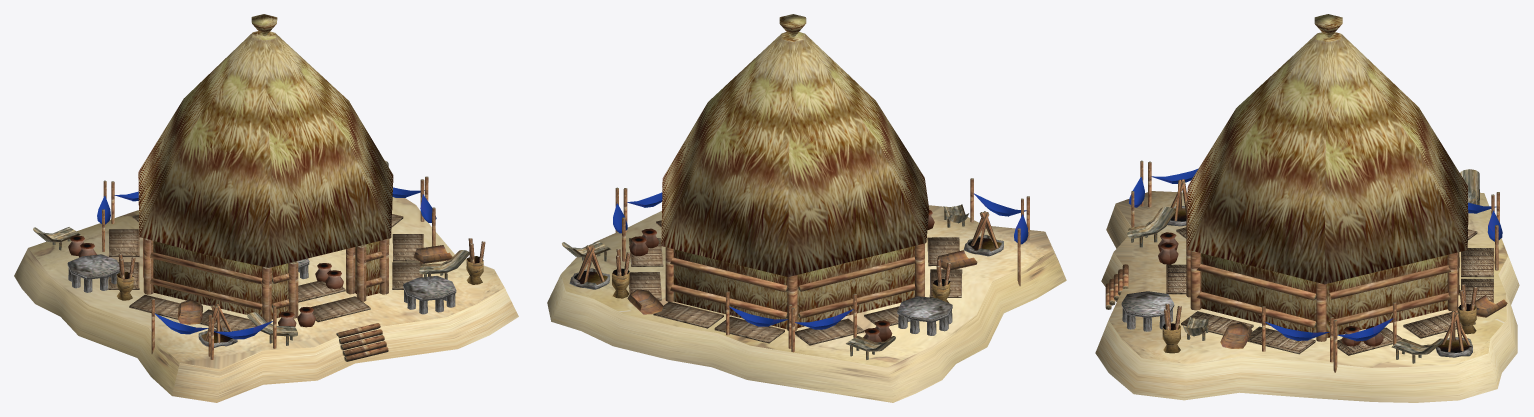
The model's file is civic_center.dae.
3 views of the same model, side by side, from view 1: azimuth 30°, elevation 25°; view 2: azimuth 150°, elevation 25°; view 3: azimuth 270°, elevation 25° (orthographic). The views are drawn at different scales.
Parts seen in each view (by area): view 1: civic_center; view 2: civic_center; view 3: civic_center.
Boxes of the visible parts, <box> form: civic_center: <box>14,14,518,402</box>; civic_center: <box>547,14,1066,402</box>; civic_center: <box>1095,14,1519,402</box>.
Bounding box in the file's own units: 29.79 × 27.91 × 20.92.
